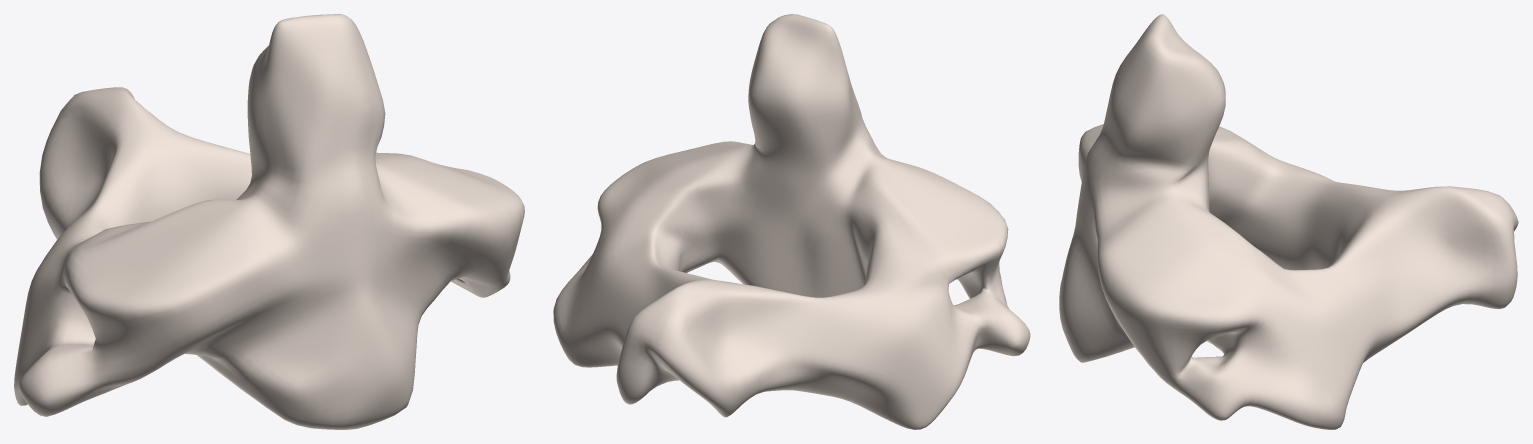
Rendered from frau2-1067.glb.
The picture shows the model from 3 angles, left to right: view 1: azimuth 30°, elevation 25°; view 2: azimuth 150°, elevation 25°; view 3: azimuth 270°, elevation 25°; orthographic projection. The views are drawn at different scales.
Visible parts, largest first — view 1: VH_F_cervical_vertebra_2; view 2: VH_F_cervical_vertebra_2; view 3: VH_F_cervical_vertebra_2.
Boxes of the visible parts, x1=… form: VH_F_cervical_vertebra_2: x1=14, y1=14, x2=524, y2=429; VH_F_cervical_vertebra_2: x1=553, y1=14, x2=1030, y2=429; VH_F_cervical_vertebra_2: x1=1059, y1=14, x2=1518, y2=429.
Bounding box in the file's own units: 0.0595 × 0.0438 × 0.0543.
